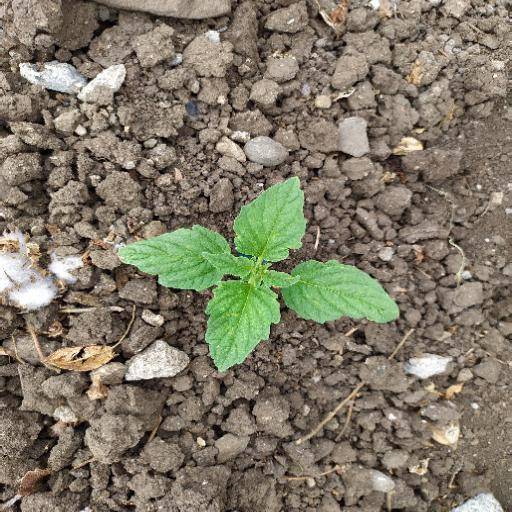crop: (104, 170, 404, 375)
